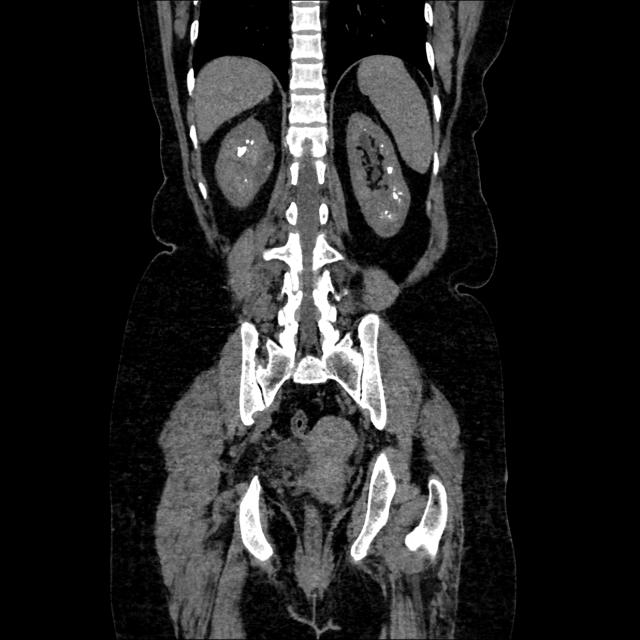kidney: (342, 108, 415, 239), (216, 118, 273, 214)
stone: (233, 141, 251, 159), (388, 161, 397, 178)
